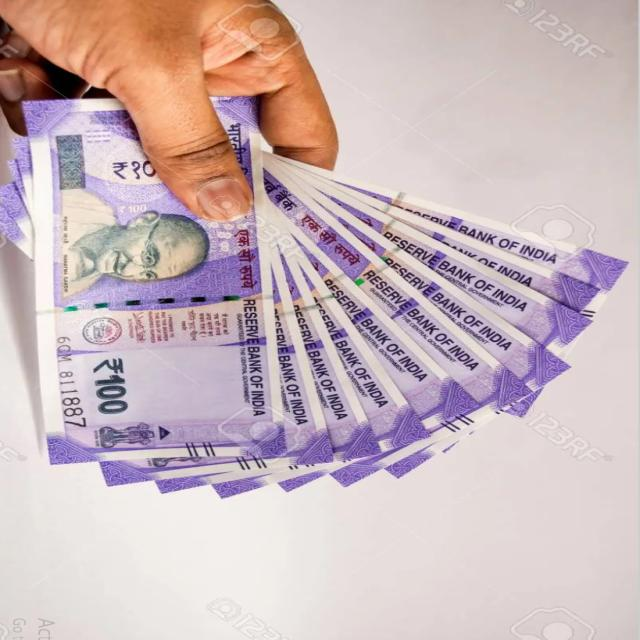100IndianRupees: (31, 96, 294, 464), (24, 227, 293, 453)
